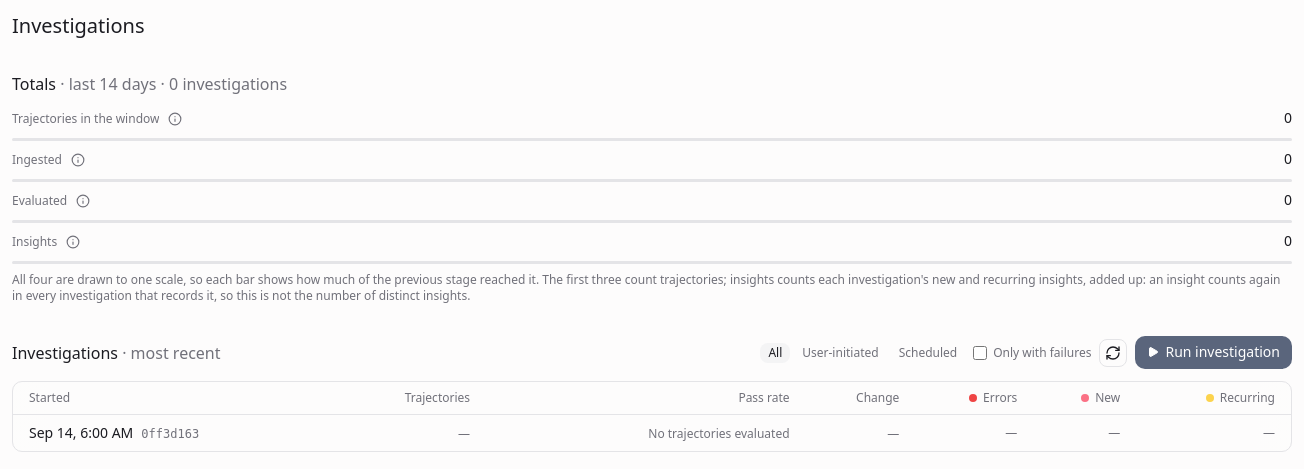
Test: the runs table's counters › explains when no investigations in the view have failures
This screenshot has width=1304, height=469.
expect the link "0ff3d163" is shown: met, box x1=141 y1=426 x2=199 y2=442
Step 1. Click the checkbox labelled "Only with failures" → (980, 352), box x1=973 y1=346 x2=987 y2=360
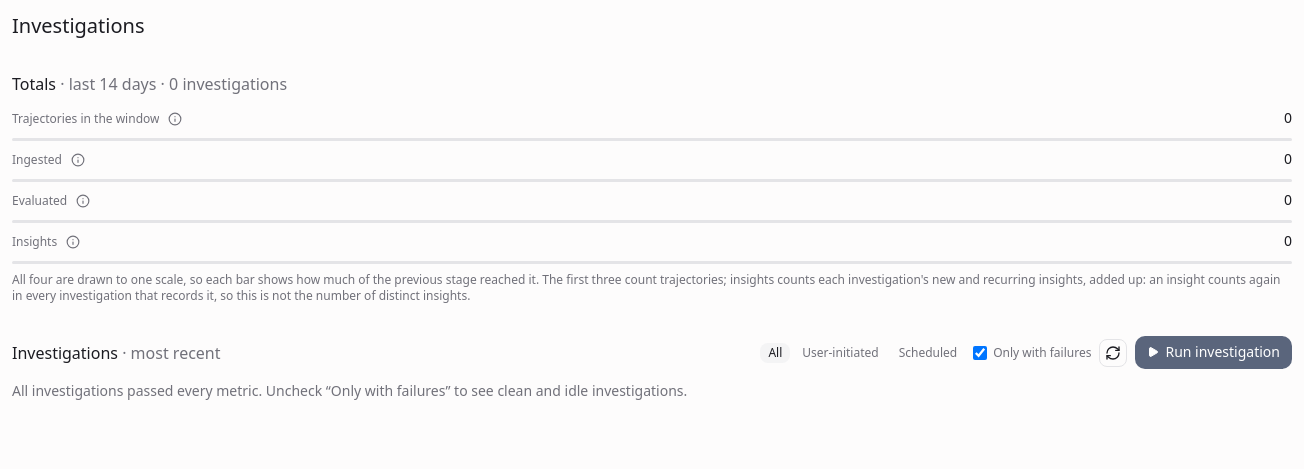
expect the text "to see clean and idle investigations" is shown: met, box x1=127 y1=381 x2=687 y2=400
